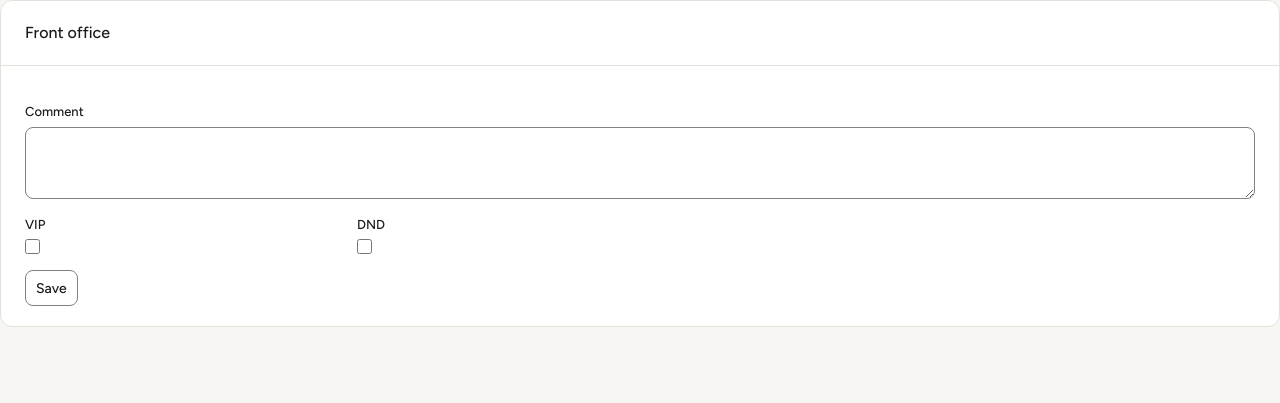
Test case: FrontOfficeEditor › queued save is an attention alert, not saved
Click the button with test id "front-office-save" at (51, 288), box x1=25 y1=270 x2=78 y2=306
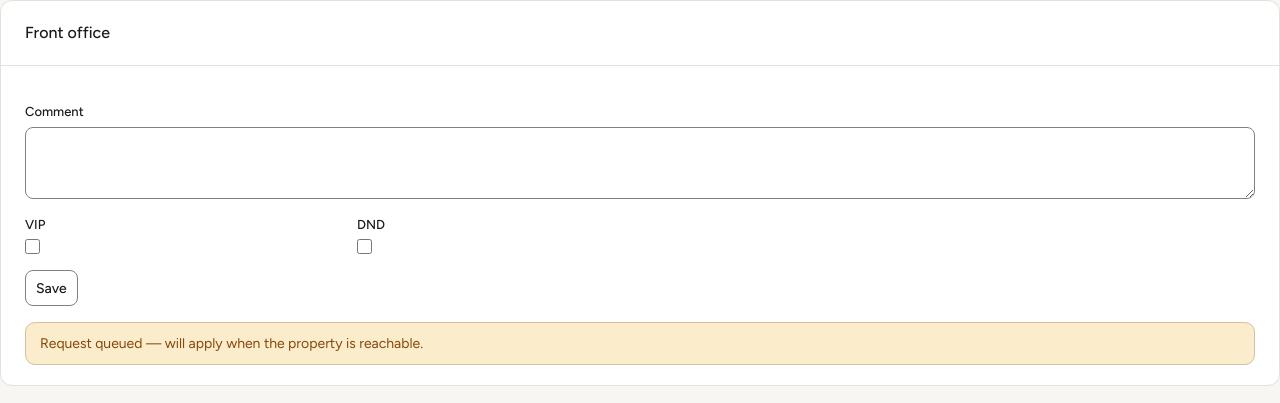
Expected: the message with test id "front-office-message" shows "Request queued — will apply when the property is reachable", x1=40 y1=335 x2=423 y2=352
